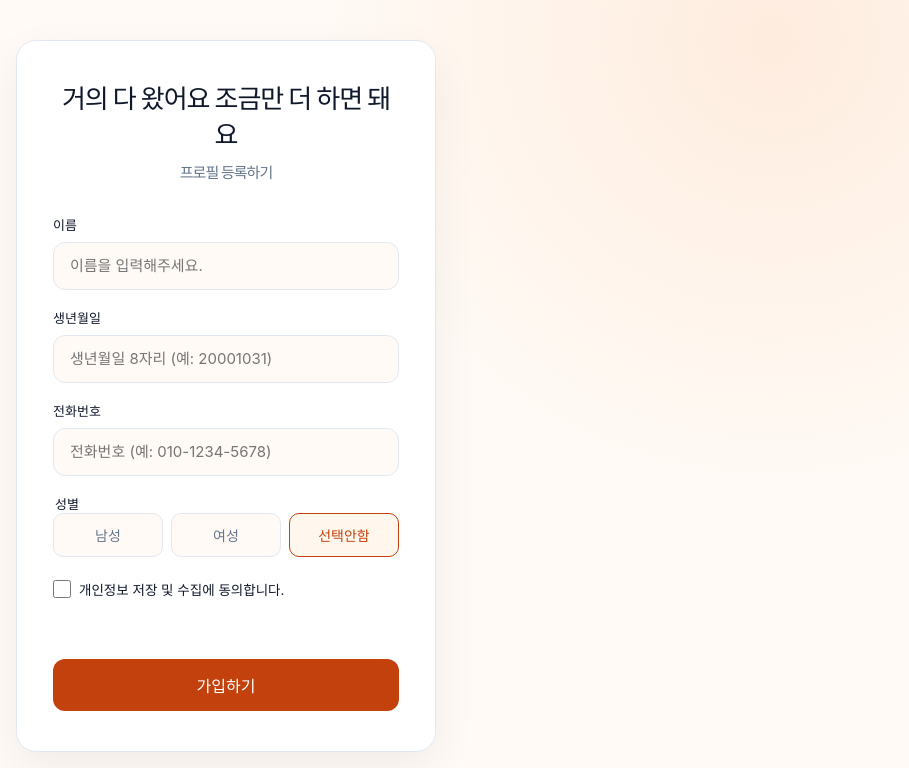
JoinProfileView › 가입 성공 후 router가 NavigationFailure를 resolve해도 완료 상태를 유지한다
In the field labelled "이름": (226, 266) [53,242,399,290], type "홍길동"
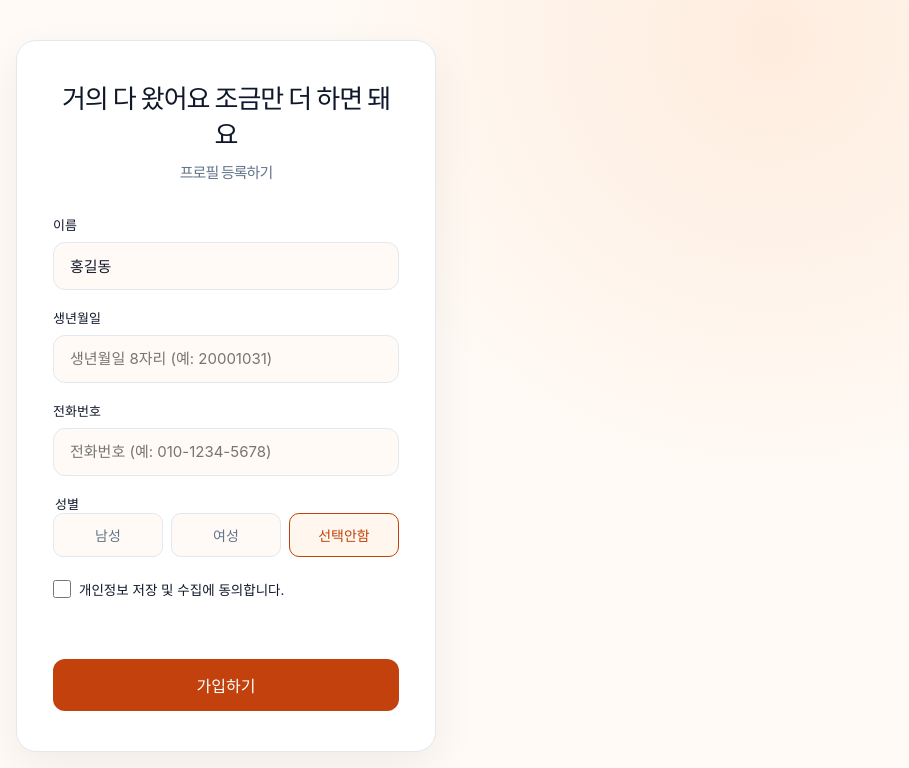
In the field labelled "생년월일": (226, 359) [53,335,399,383], type "20000101"
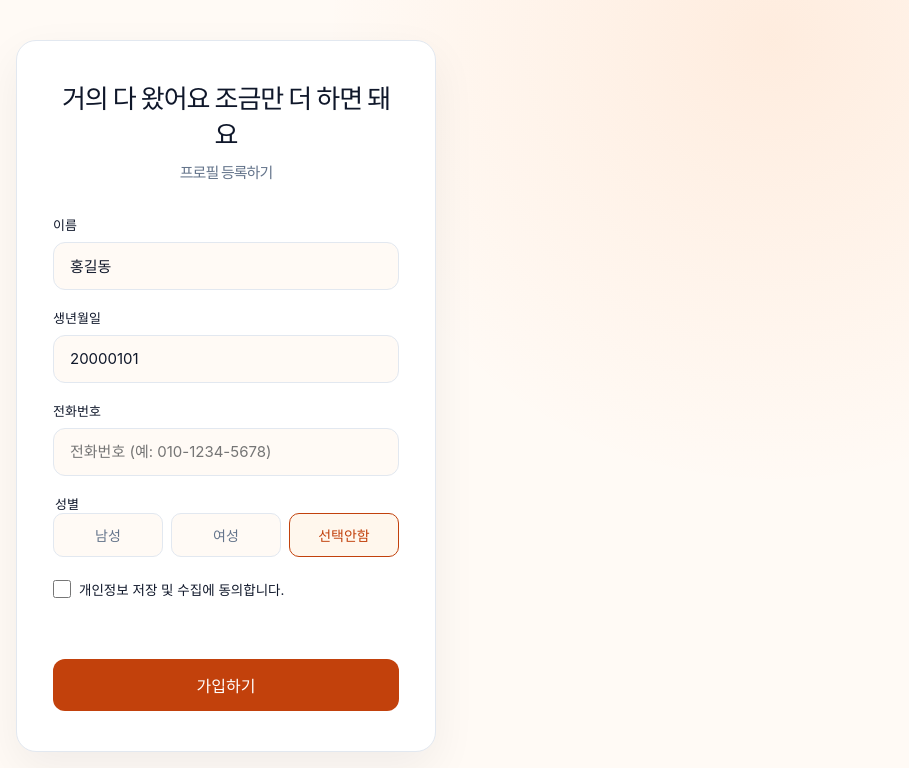
In the field labelled "전화번호": (226, 452) [53,428,399,476], type "010-1234-5678"
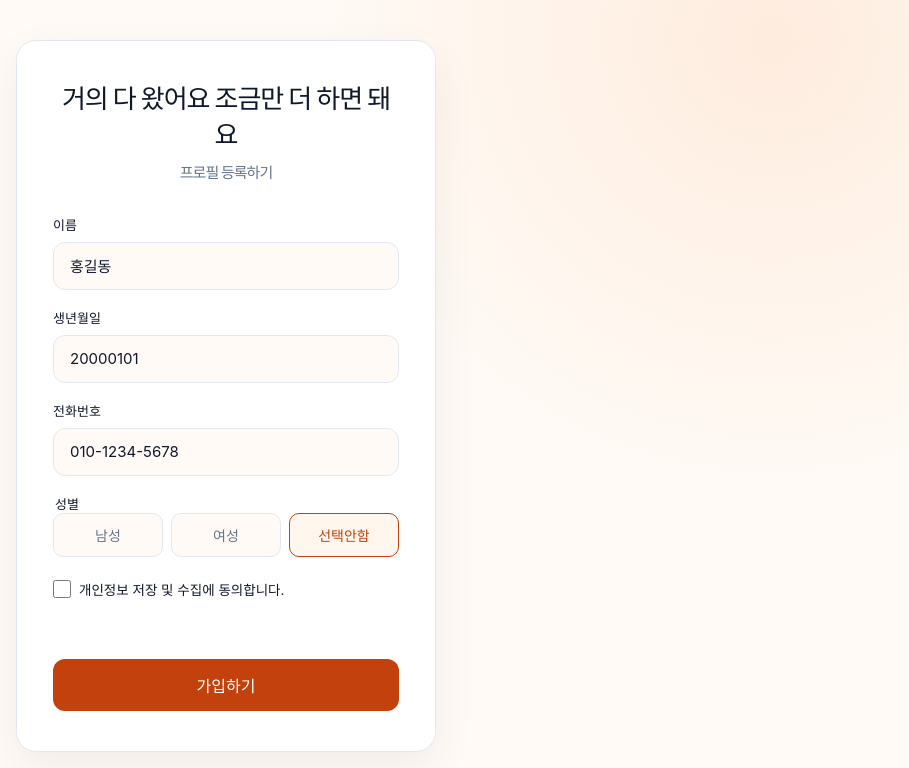
Click the checkbox labelled "개인정보 저장 및 수집에 동의합니다.": (62, 589) [53,580,71,598]
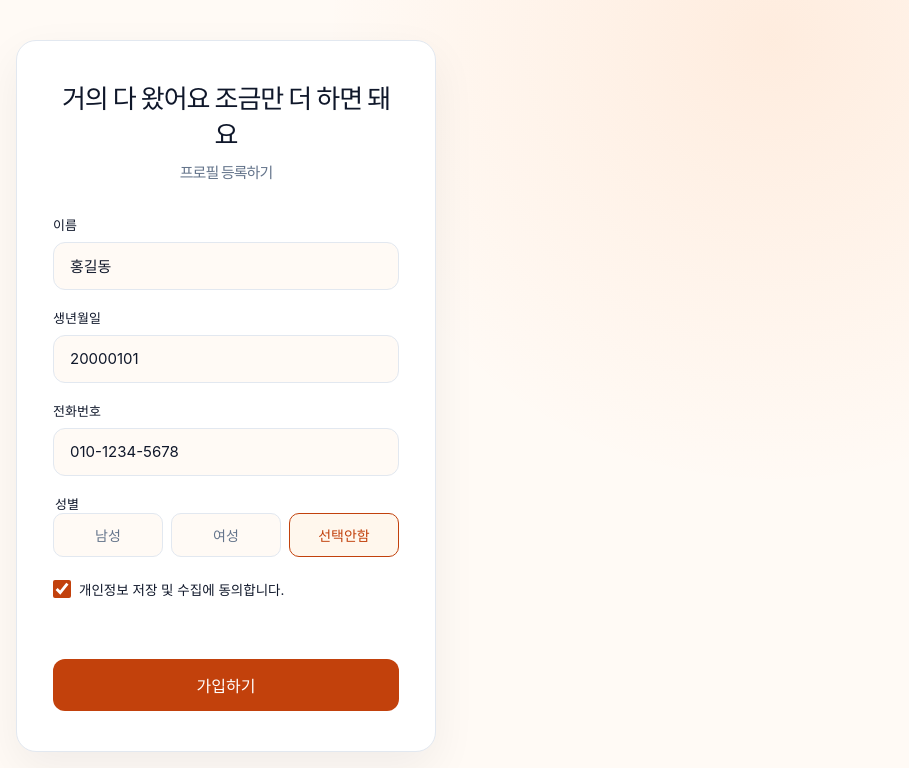
Submit the form, box [53,215,399,711]
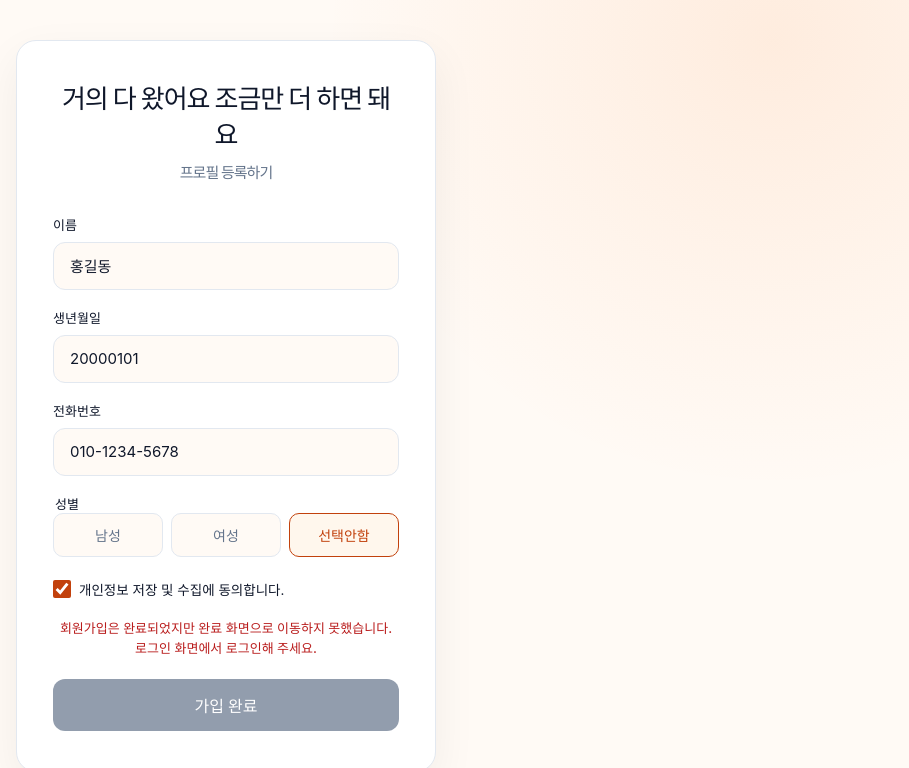
Result: the message "회원가입은 완료되었지만 완료 화면으로 이동하지 못했습니다. 로그인 화면에서 로그인해 주세요." is shown at [60,620,392,656]
Result: the submit button reads "가입 완료" at [53,679,399,731]
